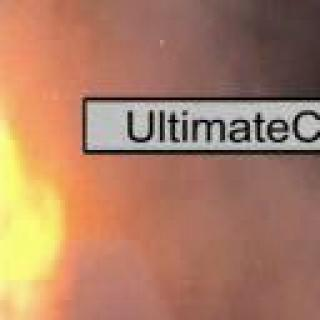fire: (0, 103, 108, 320)
